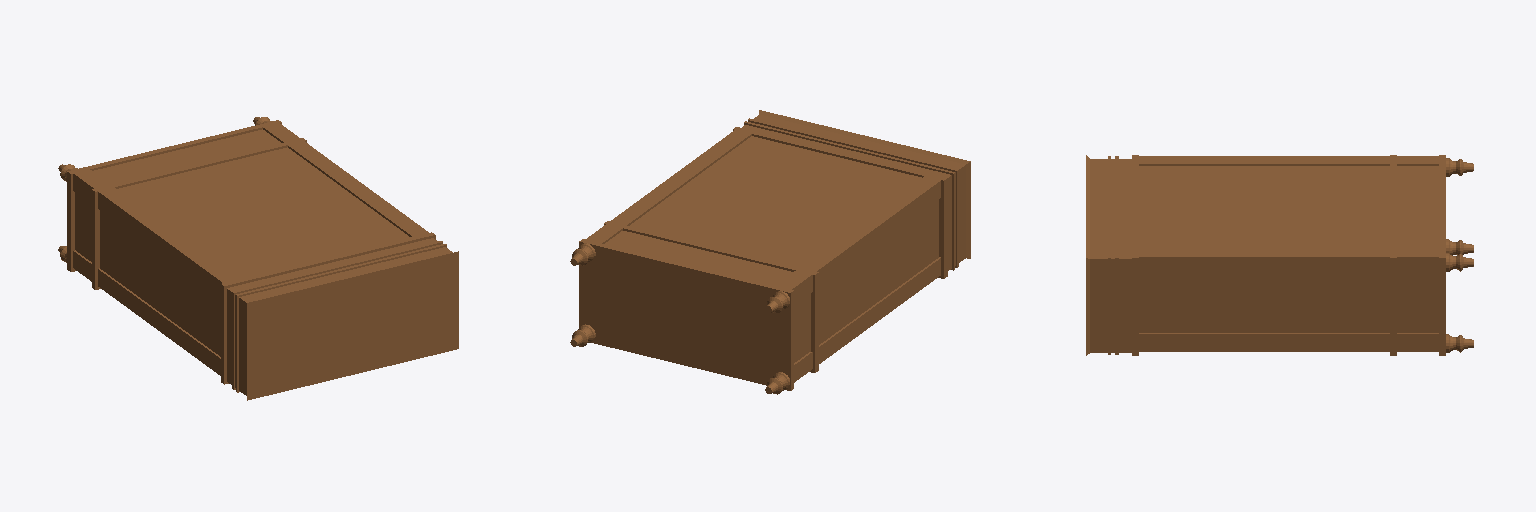
The model's file is Traditional_Armoire_Honey_V1.obj.
The picture shows the model from 3 angles: view 1: azimuth 30°, elevation 25°; view 2: azimuth 150°, elevation 25°; view 3: azimuth 270°, elevation 25°; orthographic projection.
Visible parts, largest first — view 1: Box13044, Box13036, Box13038, Box13041, Box13042, Box13040, Box13047, Box13043; view 2: Box13036, Box13043, Box13044, Box13038, Box13041, Box13042, Box13040, Box13047; view 3: Box13036, Box13037, Box13044, Box13040, Box13039, Box13041, Box13043, Box13047.
Boxes of the visible parts, x1,y1,x2,y2 form: Box13044: [221, 232, 458, 400]; Box13036: [93, 129, 409, 278]; Box13038: [75, 192, 220, 356]; Box13041: [73, 170, 238, 298]; Box13042: [73, 250, 220, 375]; Box13040: [263, 123, 428, 236]; Box13047: [92, 138, 306, 289]; Box13043: [67, 120, 281, 271]; Box13036: [605, 136, 921, 285]; Box13043: [579, 239, 793, 390]; Box13044: [733, 110, 970, 278]; Box13038: [794, 200, 938, 362]; Box13041: [775, 176, 940, 304]; Box13042: [794, 257, 940, 382]; Box13040: [585, 130, 751, 243]; Box13047: [604, 221, 818, 372]; Box13036: [1139, 166, 1438, 248]; Box13037: [1139, 274, 1438, 332]; Box13044: [1086, 155, 1138, 355]; Box13040: [1139, 249, 1438, 273]; Box13039: [1139, 333, 1438, 351]; Box13041: [1139, 156, 1438, 165]; Box13043: [1439, 155, 1445, 355]; Box13047: [1390, 155, 1396, 355].
Bounding box in the file's own units: 86.41 × 38.6 × 137.